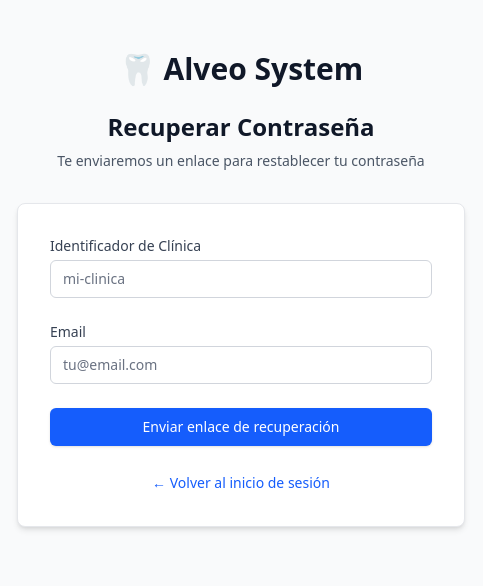
Test: ForgotPasswordPage › error handling › should display API error message
Step 1. Type "my-clinic" into the field labelled "Identificador de Clínica" → {"x": 241, "y": 279}, box [50, 260, 432, 298]
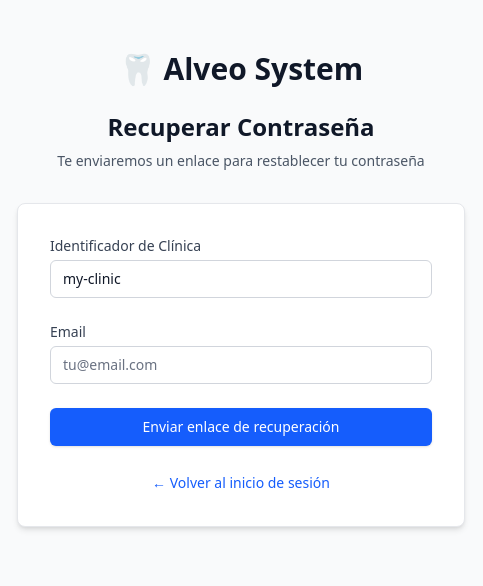
Step 2. Type "test@example.com" into the field labelled "Email" → {"x": 241, "y": 365}, box [50, 346, 432, 384]
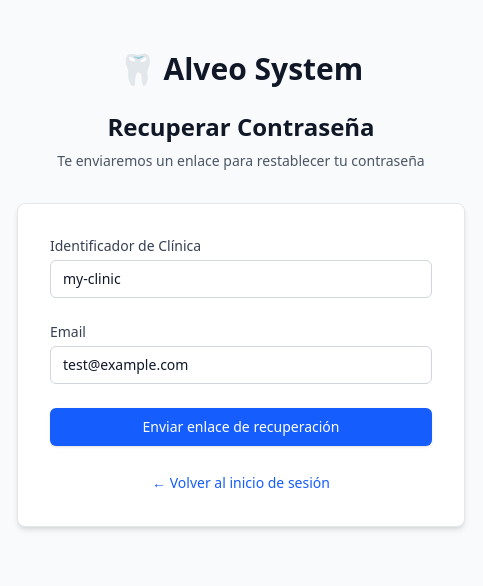
Step 3. Click the button "Enviar enlace de recuperación" → {"x": 241, "y": 427}, box [50, 408, 432, 446]
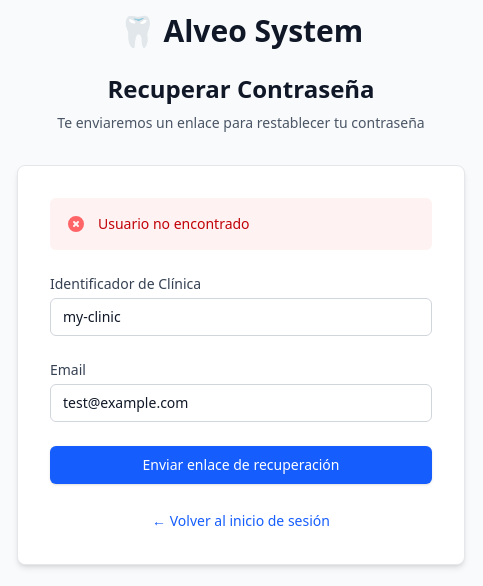
Now the text "Usuario no encontrado" is shown, box [98, 214, 250, 234]
